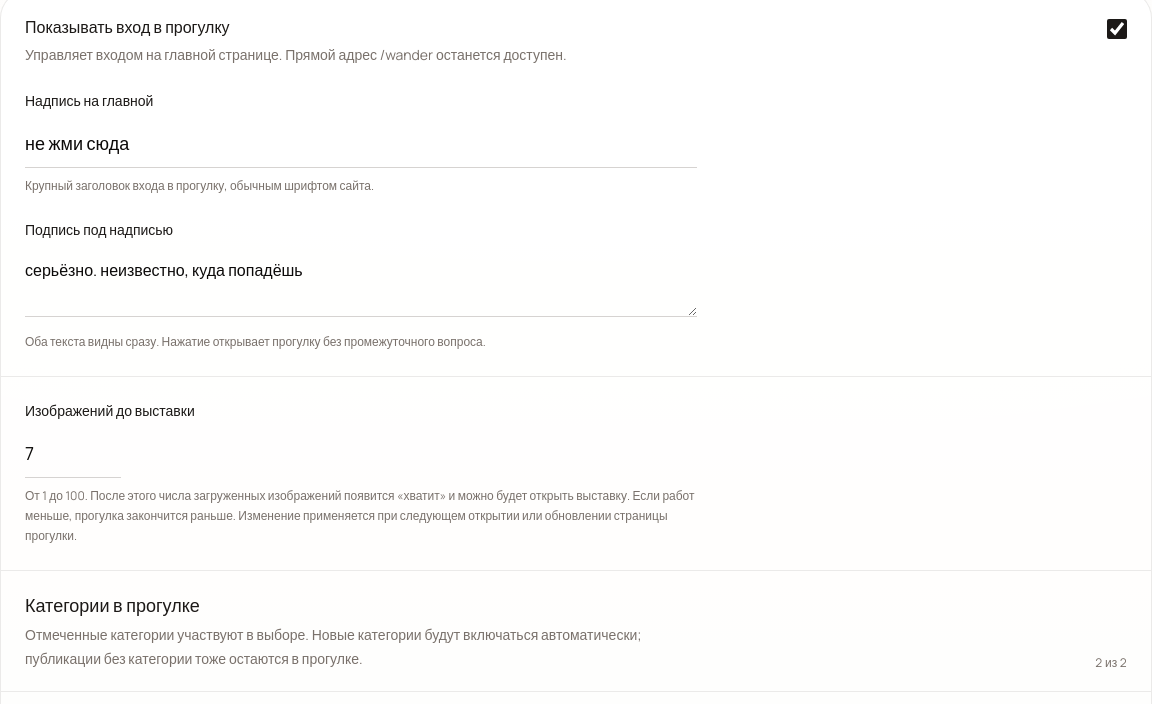
it: настройки прогулки › по умолчанию включает категории и сохраняет только исключения
The image size is (1152, 704).
Replace the text in the number field labelled "Изображений до выставки" with "12" at (73, 453), box [25, 428, 121, 478]
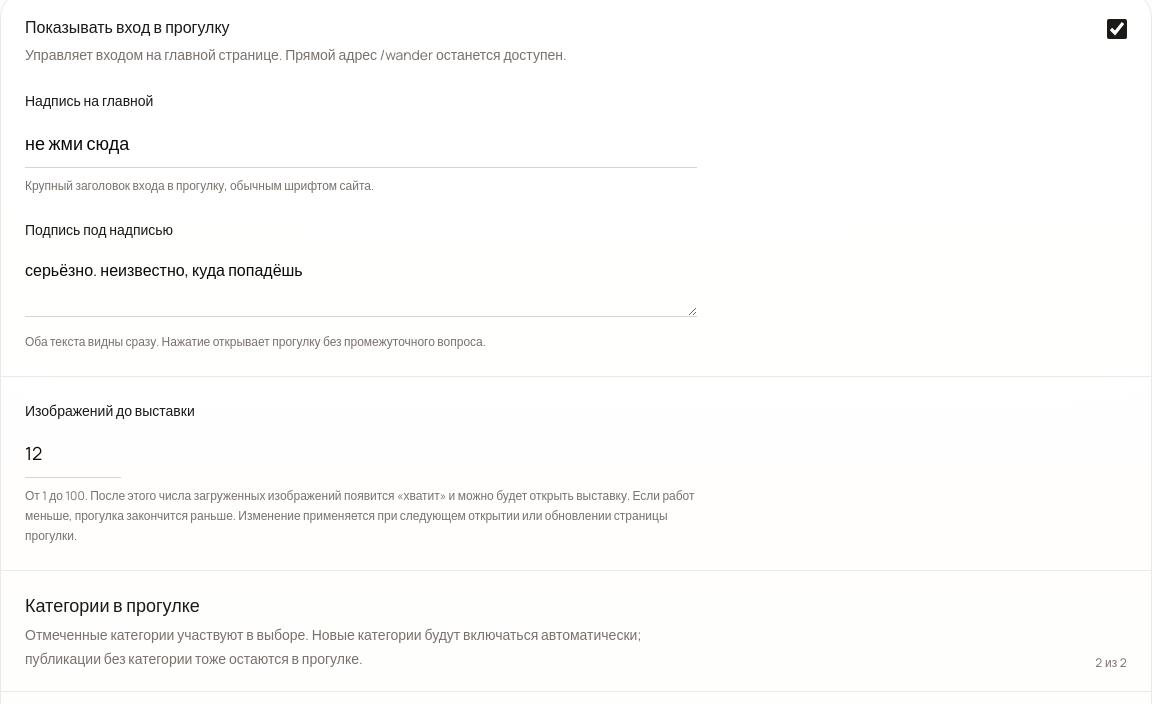
Check: the text box labelled "Подпись под надписью" holds "серьёзно. неизвестно, куда попадёшь", box [25, 248, 697, 317]
Type "не трогай" into the field labelled "Надпись на главной".
click(361, 144); type("не трогай")  # box [25, 119, 697, 168]
(page scrolled)
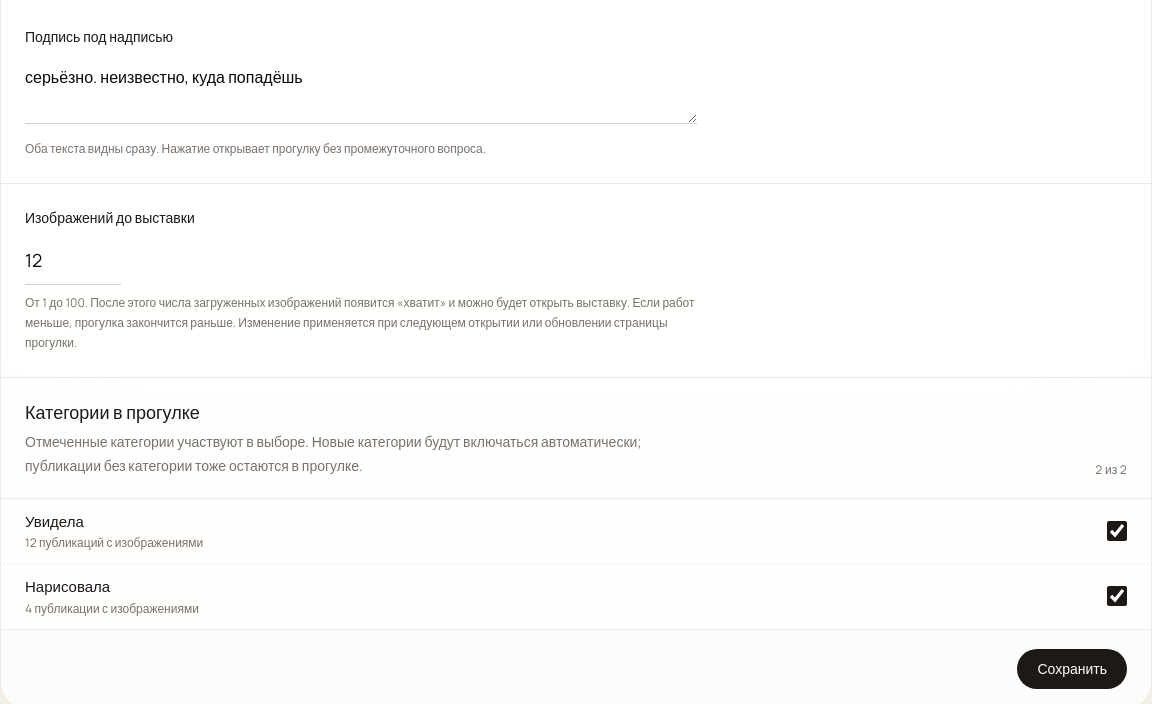
Click the checkbox named "Показывать категорию «Увидела»".
click(1117, 531)  # box [1107, 521, 1127, 541]
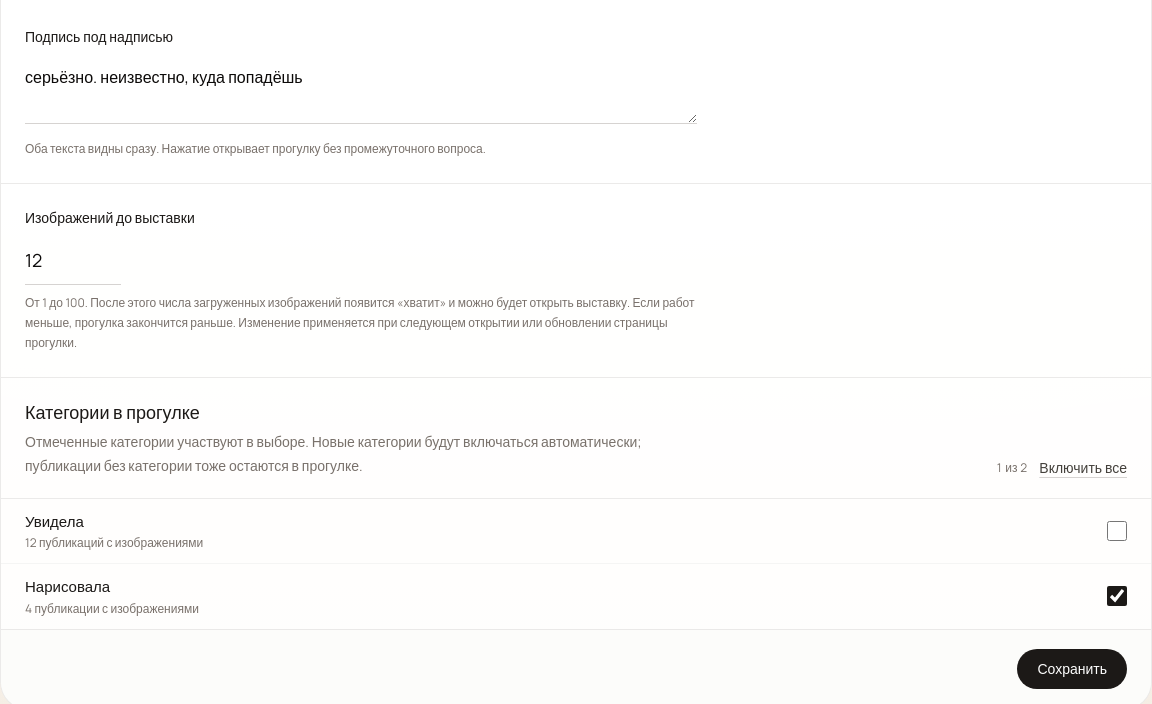
Type "посмотрим, что будет" into the text box labelled "Подпись под надписью".
click(361, 90); type("посмотрим, что будет")  # box [25, 55, 697, 124]
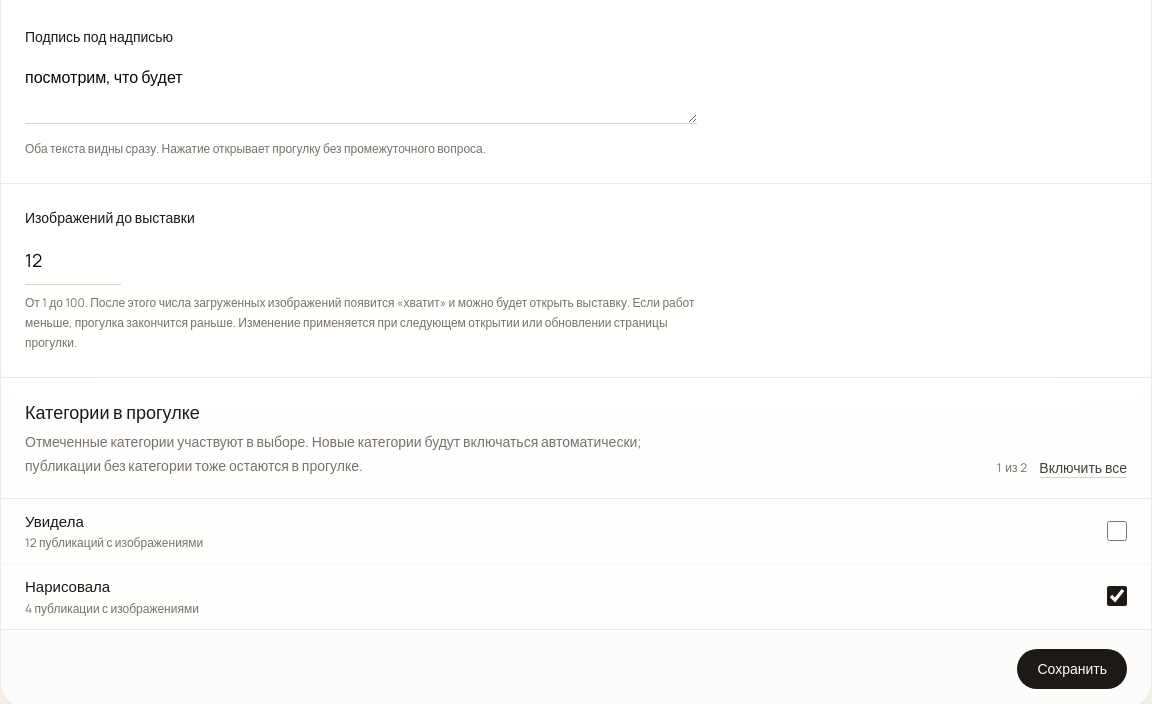
Click the button "Сохранить".
click(1072, 669)  # box [1017, 649, 1127, 689]
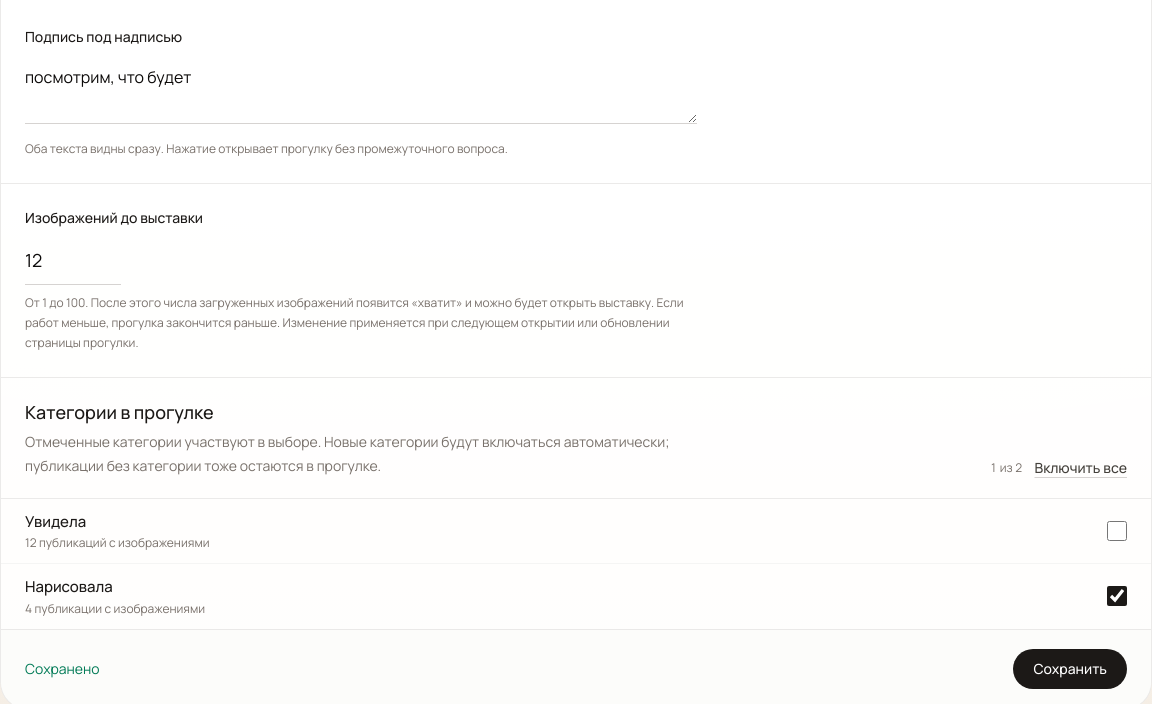
Check: the message reads "Сохранено", box [25, 659, 100, 678]
